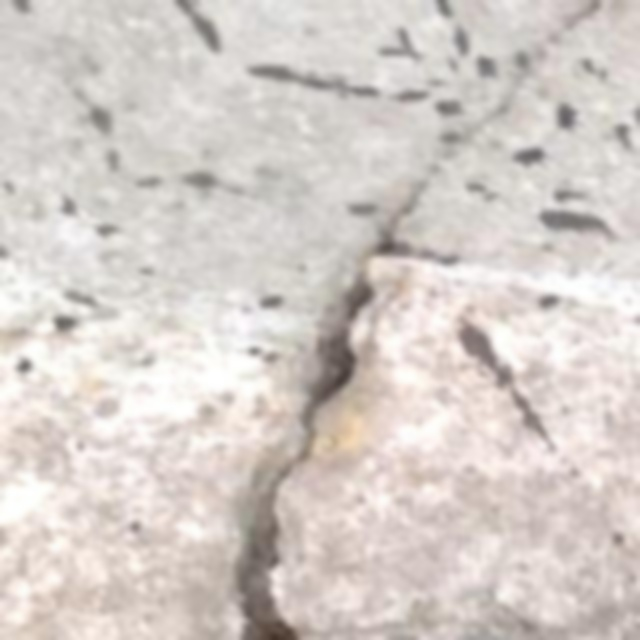SurfaceCrack: (216, 148, 450, 640)
